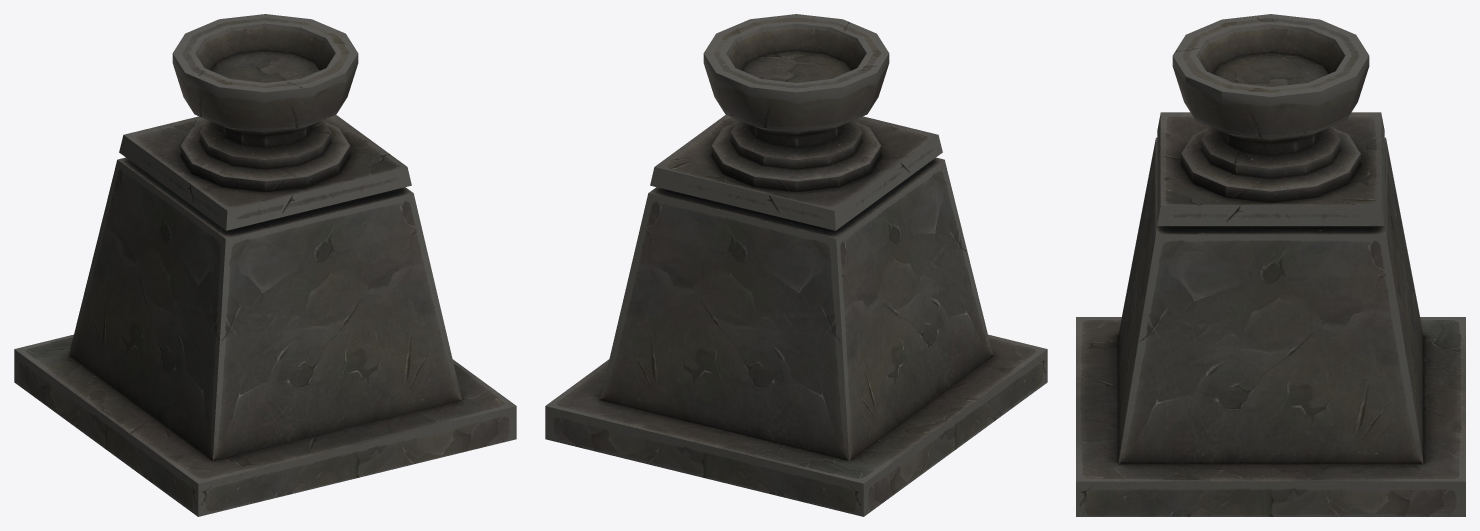
The model's file is altare.fbx.
3 views of the same model, side by side, from view 1: azimuth 30°, elevation 25°; view 2: azimuth 150°, elevation 25°; view 3: azimuth 270°, elevation 25° (orthographic). The views are drawn at different scales.
Visible parts, largest first — view 1: Object_0; view 2: Object_0; view 3: Object_0.
Part boxes in pixels (x1,y1,x2,y2): Object_0: (14,14,516,516); Object_0: (545,14,1047,516); Object_0: (1076,14,1465,516).
Bounding box in the file's own units: 120 × 129 × 120.
1 material, 1 textured.
